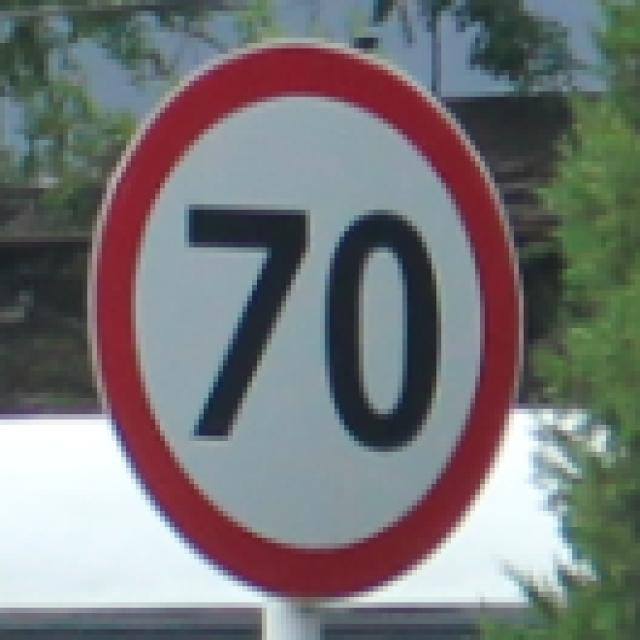speed limit 70: (86, 40, 523, 601)
